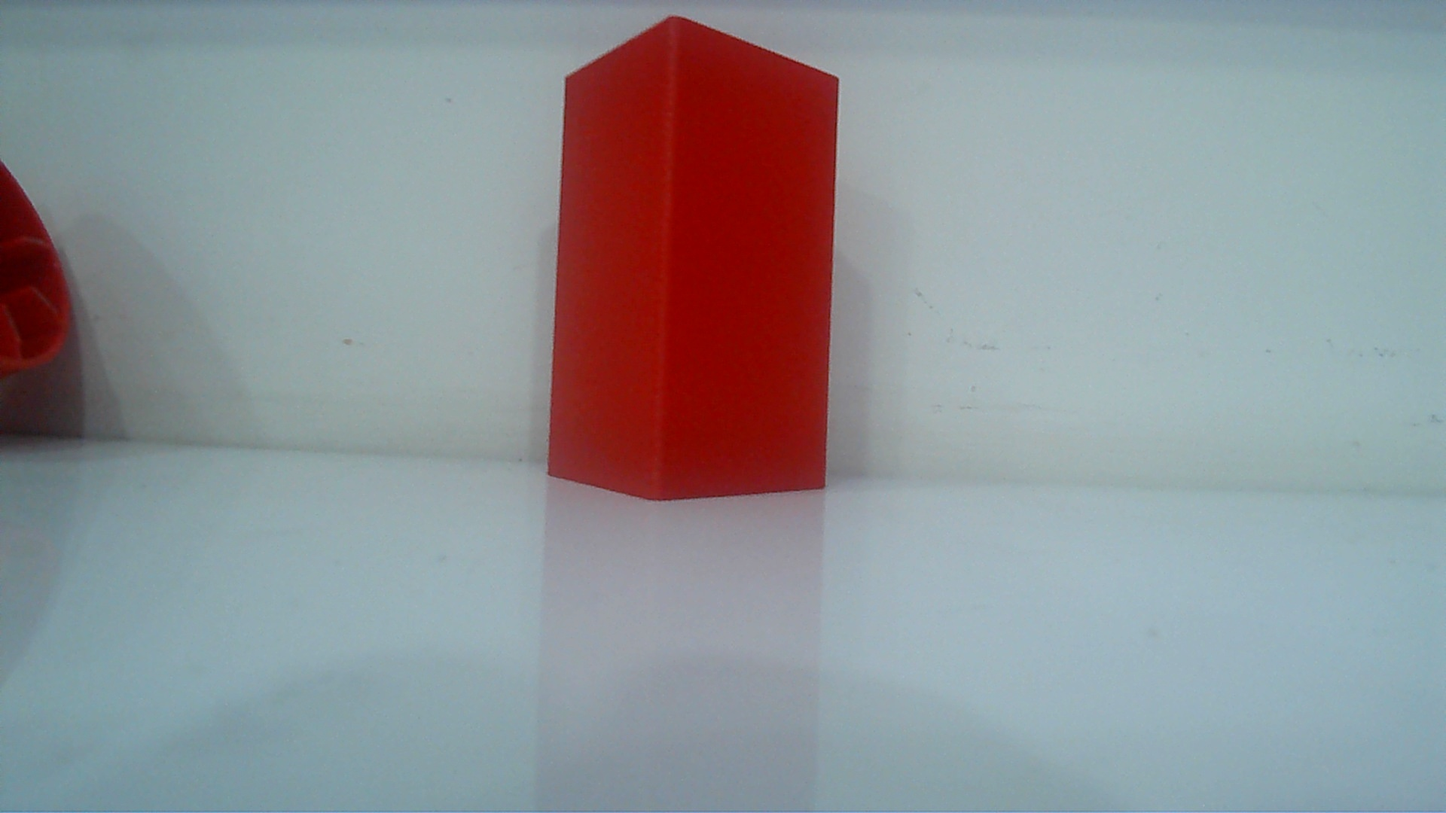red: (544, 10, 845, 516)
